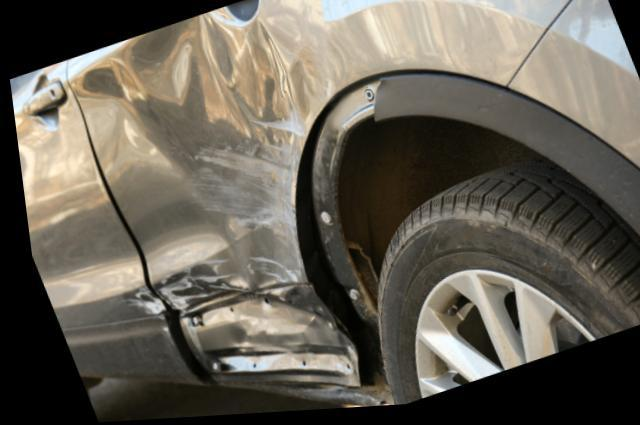dent: (74, 12, 342, 382)
